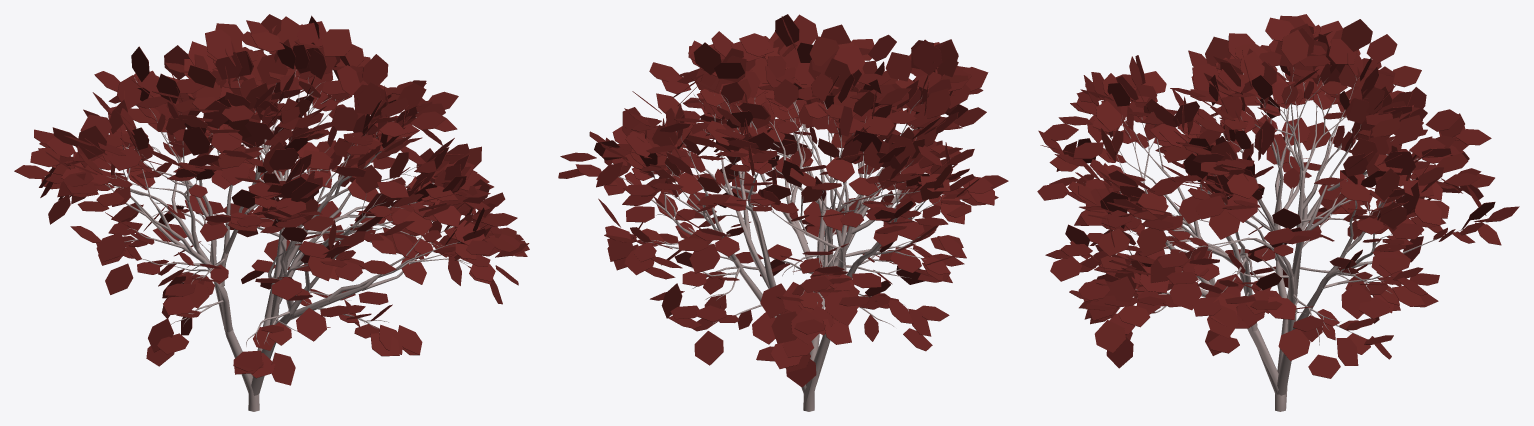
File: red_trees1.gltf
3 views of the same model, side by side, from view 1: azimuth 30°, elevation 25°; view 2: azimuth 150°, elevation 25°; view 3: azimuth 270°, elevation 25° (orthographic).
Parts seen in each view (by area): view 1: tree without motion.001; view 2: tree without motion.001; view 3: tree without motion.001.
Part boxes in pixels (<box>): tree without motion.001: <box>14,14,529,411</box>; tree without motion.001: <box>558,14,1008,411</box>; tree without motion.001: <box>1037,14,1519,411</box>.
Bounding box in the file's own units: 25.66 × 21.61 × 26.68.
Materials: 1 (1 with a texture image).
